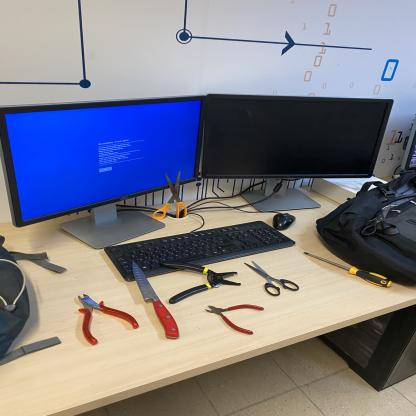Knife: (131, 260, 180, 340)
scissors: (244, 260, 300, 296), (153, 170, 189, 220)
